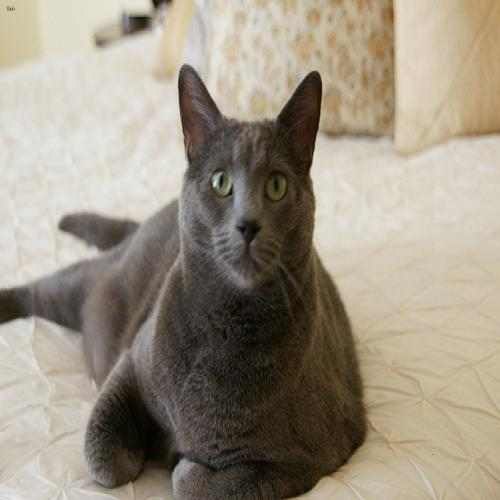rblue: (161, 40, 335, 315)
